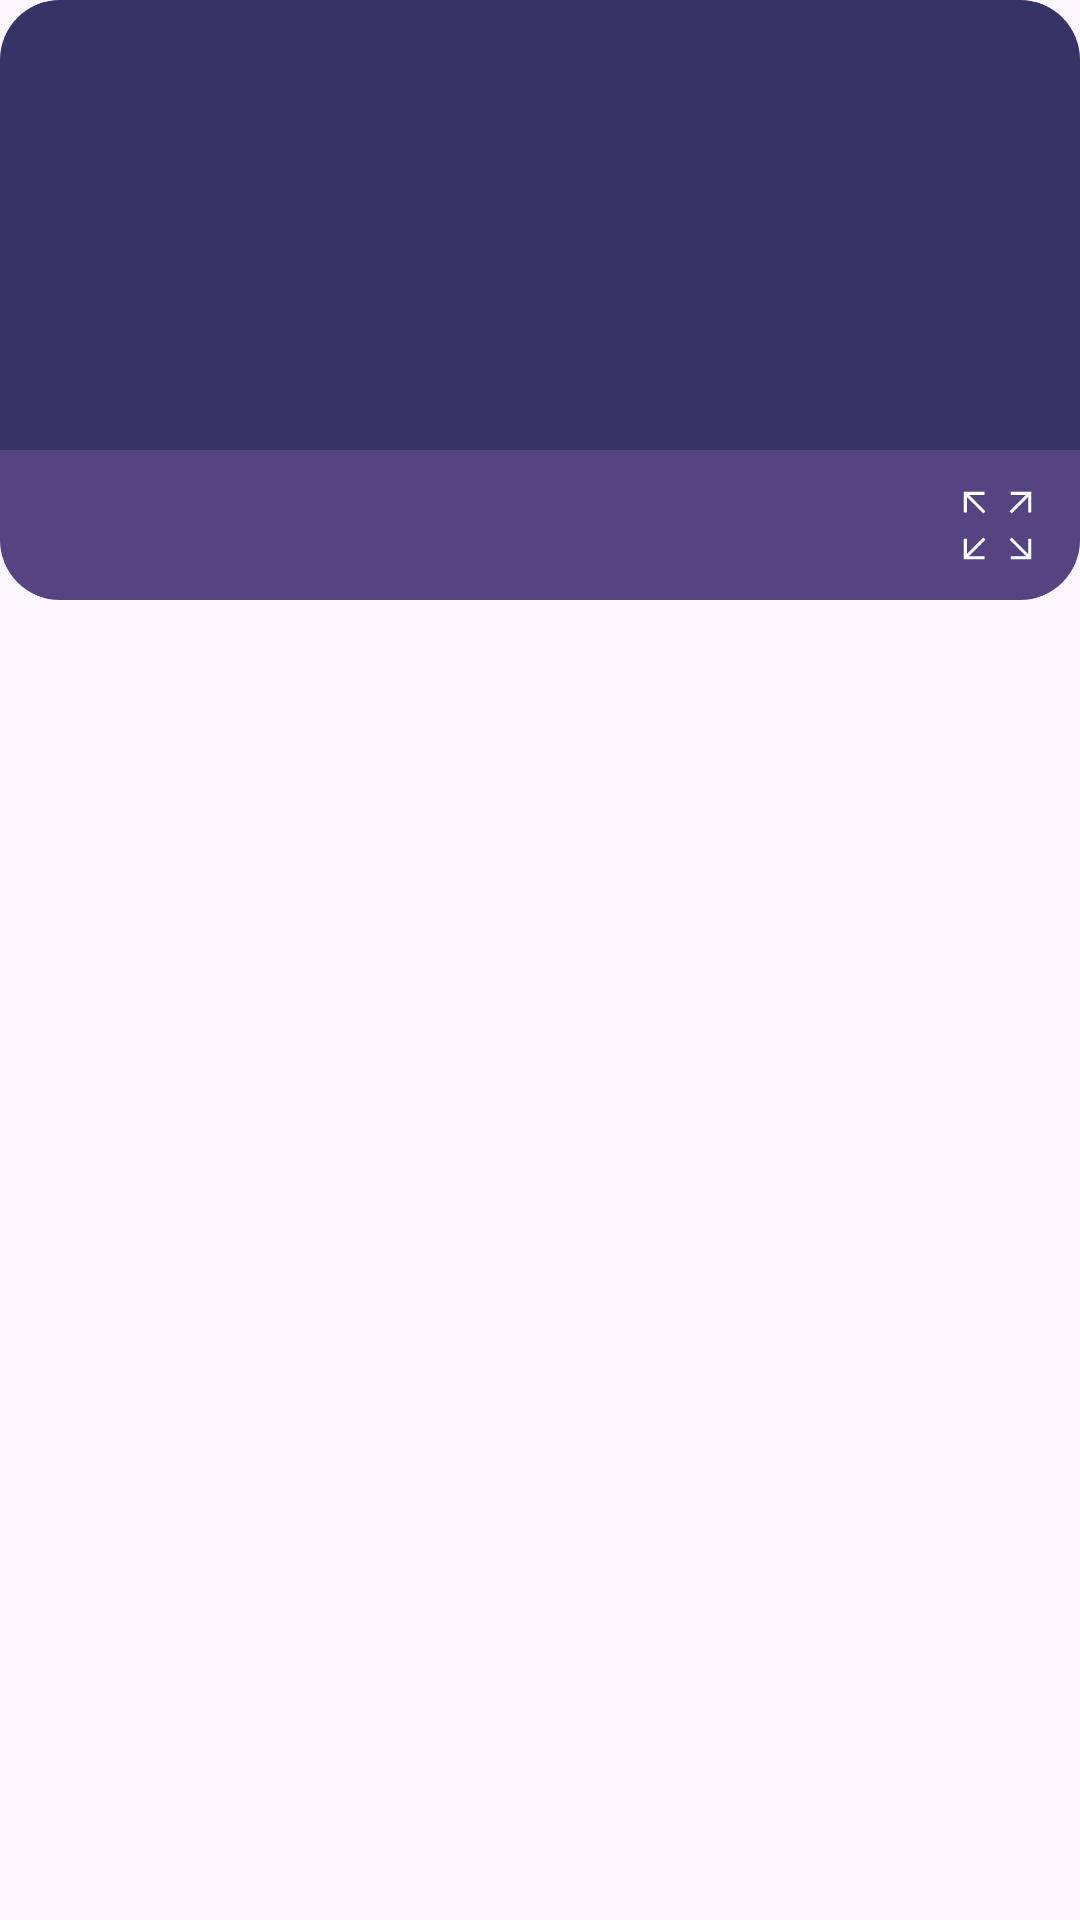

Locate icon controls on the screen. Image size 1080w x 1920h, boxes as [x1,y1,x2,y2].
zoom: [963,491,1032,560]
